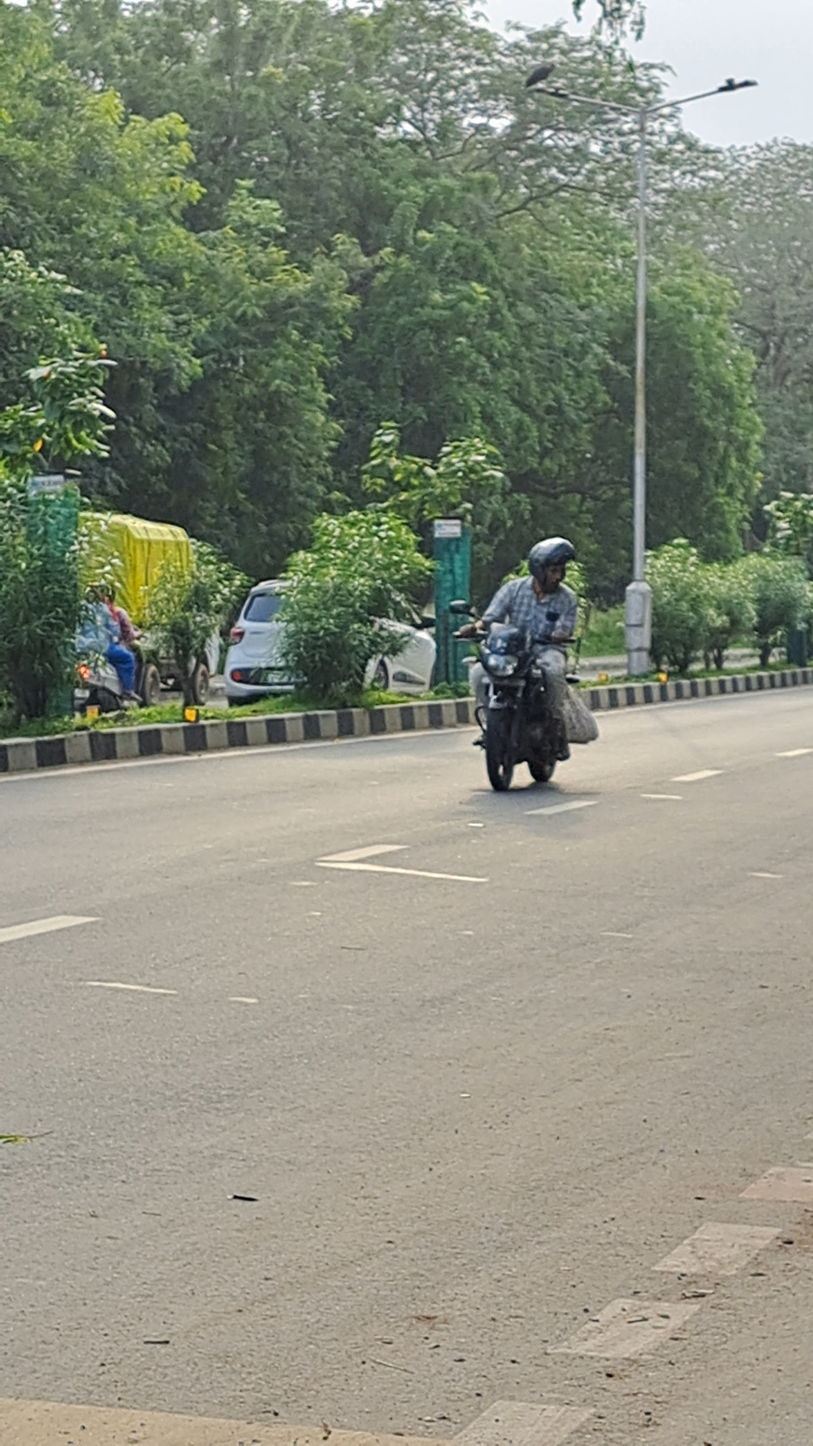BikeWithRider: (461, 529, 610, 804)
Helmet: (522, 532, 580, 595)
